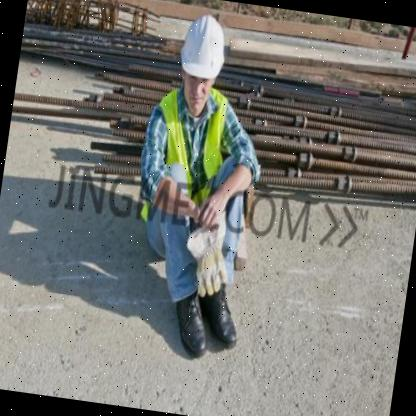capacete: (166, 6, 233, 118)
